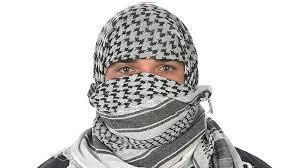scarf-kerchief: (83, 1, 229, 142)
